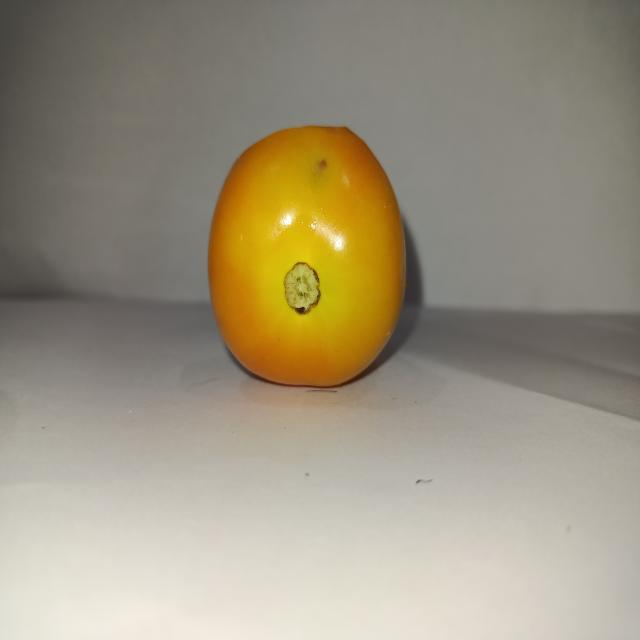Red: (206, 123, 407, 388)
